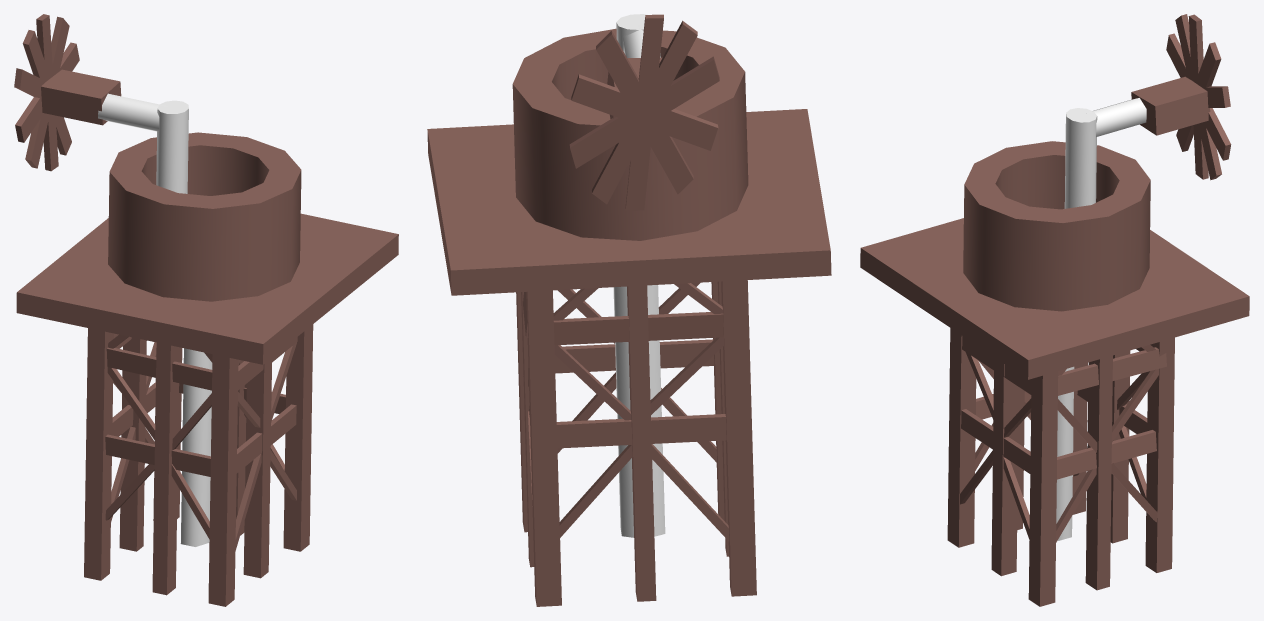
Rendered from moulinff7.fbx.
The picture shows the model from 3 angles, left to right: view 1: azimuth 30°, elevation 25°; view 2: azimuth 150°, elevation 25°; view 3: azimuth 270°, elevation 25°; orthographic projection. The views are drawn at different scales.
Parts seen in each view (by area): view 1: Pipe, Cube__1__1, Cube__2__1, Cube__3__1, Cube__15__1, Cube__5__1, Cube__16__1, moulinff7, Cube__1__2, Cube__17__1, Cylinder, Cube__9__1 (+17 smaller); view 2: Cube__1__1, Pipe, Cube__4__1, Cube__3__1, Cube__17__1, moulinff7, Cube__11__1, Cube__10__1, Cube, Cube__2__2, Cube__3__2, Cube__1__3 (+14 smaller); view 3: Pipe, Cube__1__1, Cube__5__1, Cube__4__1, Cube__14__1, Cube__2__1, Cube__16__1, Cube__1__2, Cylinder, Cube__13__1, Cube__12__1, Cube__17__1 (+17 smaller).
Boxes of the visible parts, x1,y1,x2,y2 form: Pipe: (108, 132, 301, 301); Cube__1__1: (16, 213, 398, 364); Cube__2__1: (208, 354, 238, 606); Cube__3__1: (84, 328, 113, 580); Cube__15__1: (152, 342, 179, 595); Cube__5__1: (283, 324, 313, 551); Cube__16__1: (243, 357, 272, 578); moulinff7: (180, 348, 212, 546); Cube__1__2: (41, 69, 121, 125); Cube__17__1: (119, 337, 146, 551); Cylinder: (156, 100, 188, 193); Cube__9__1: (106, 347, 212, 390); Cube__1__1: (427, 109, 831, 295); Pipe: (512, 28, 748, 240); Cube__4__1: (526, 290, 561, 606); Cube__3__1: (721, 280, 756, 596); Cube__17__1: (627, 285, 656, 601); moulinff7: (613, 285, 665, 537); Cube__11__1: (556, 414, 726, 448); Cube__10__1: (553, 312, 723, 345); Cube: (625, 14, 663, 210); Cube__2__2: (569, 56, 719, 168); Cube__3__2: (571, 74, 718, 150); Cube__1__3: (592, 20, 697, 204); Pipe: (963, 141, 1150, 311); Cube__1__1: (860, 218, 1249, 379); Cube__5__1: (1028, 371, 1058, 606); Cube__4__1: (1145, 337, 1174, 572); Cube__14__1: (1085, 355, 1112, 590); Cube__2__1: (947, 328, 976, 547); Cube__16__1: (991, 357, 1018, 576); Cube__1__2: (1131, 76, 1210, 135); Cylinder: (1064, 108, 1097, 208); Cube__13__1: (1058, 347, 1166, 395); Cube__12__1: (1057, 430, 1156, 479); Cube__17__1: (1110, 350, 1130, 543).
Bounding box in the file's own units: 161 × 223 × 157.
